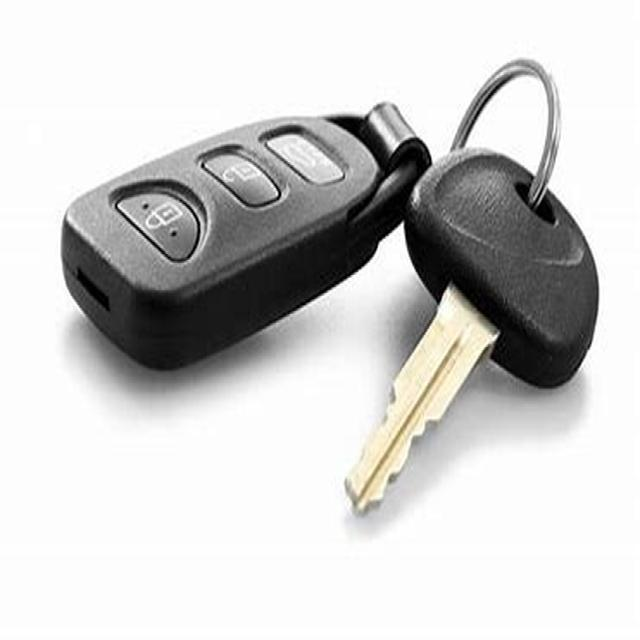key: (326, 102, 576, 553)
mouse: (67, 60, 430, 403)
